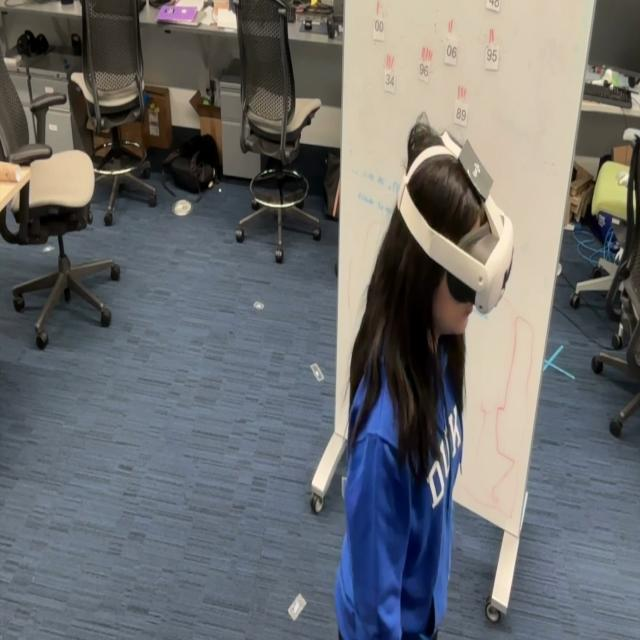Headset: (396, 127, 514, 316)
UnityLogo: (457, 136, 495, 203)
